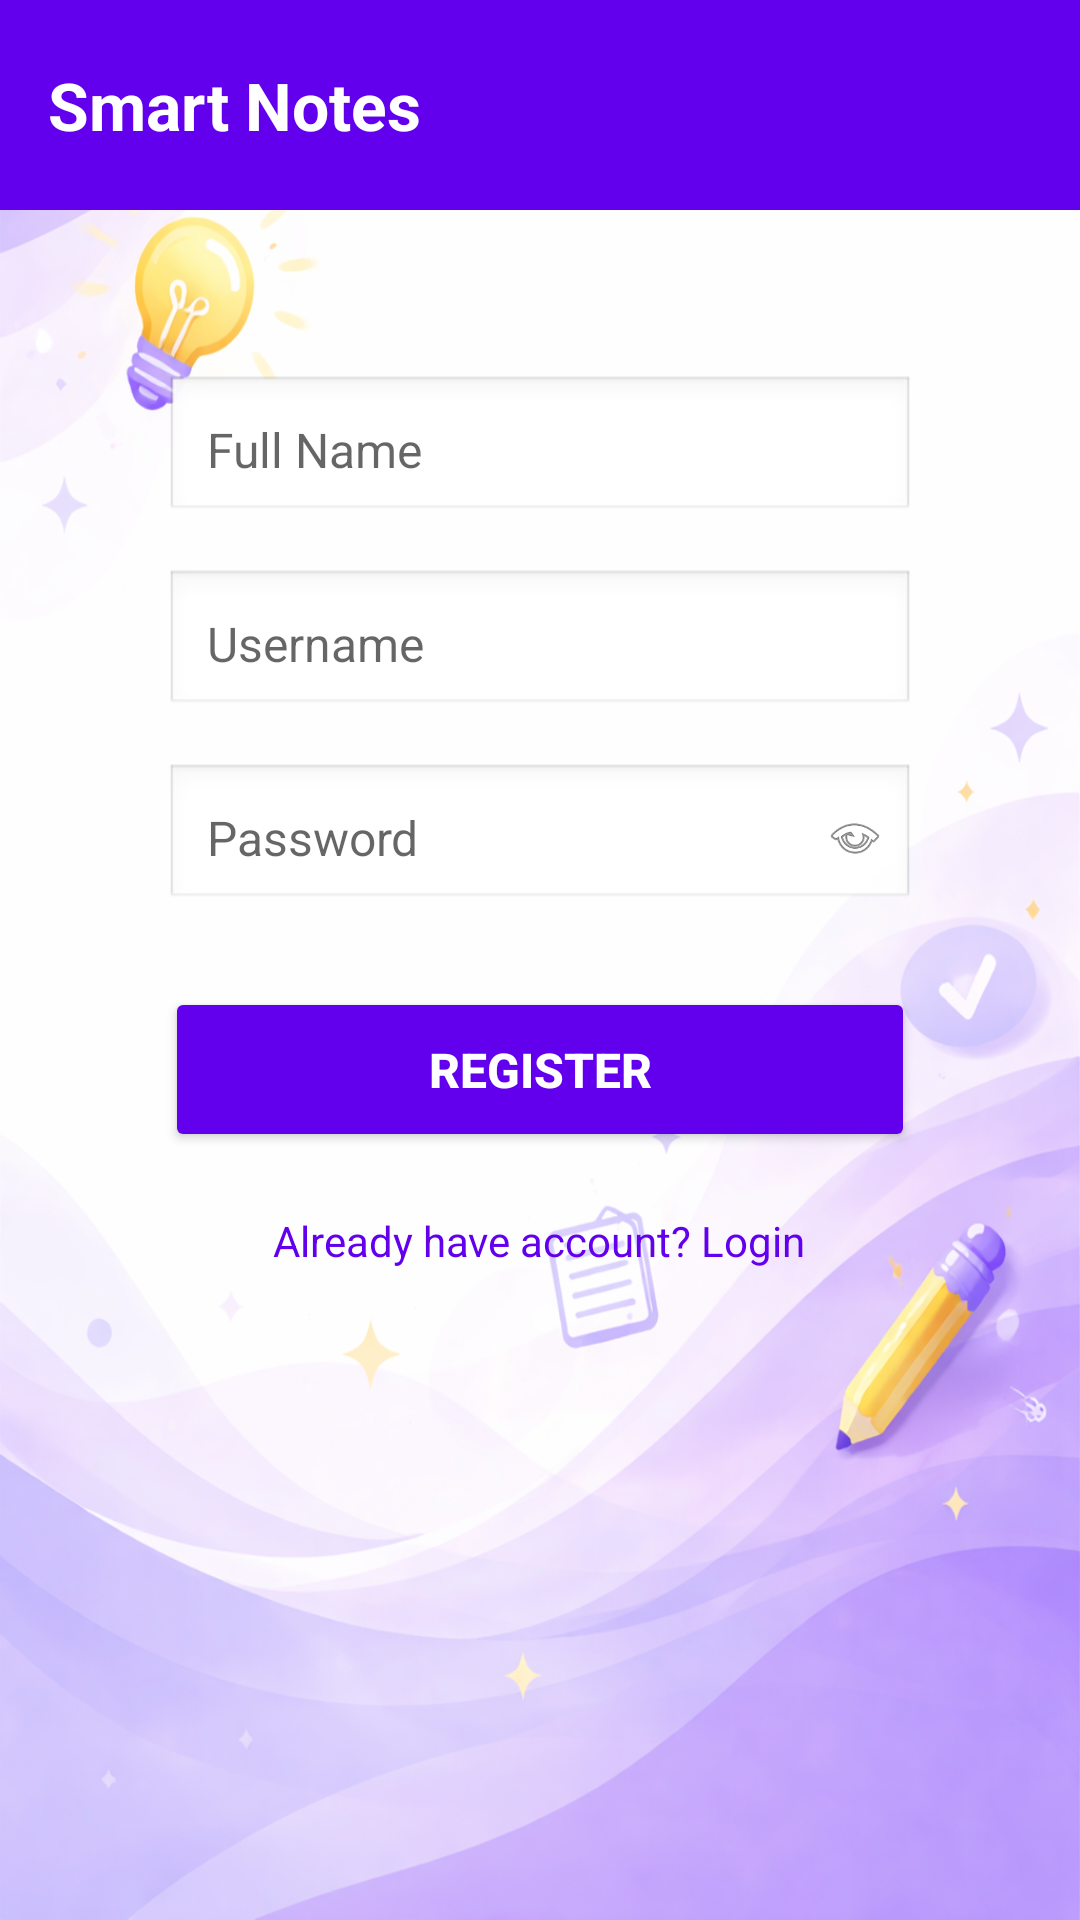

Icons on this 1080*1920 Android screen, each with the point to tap as (x=x, y=y):
view: (x=855, y=838)
